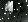person: (6, 3, 13, 16), (17, 4, 23, 13)
